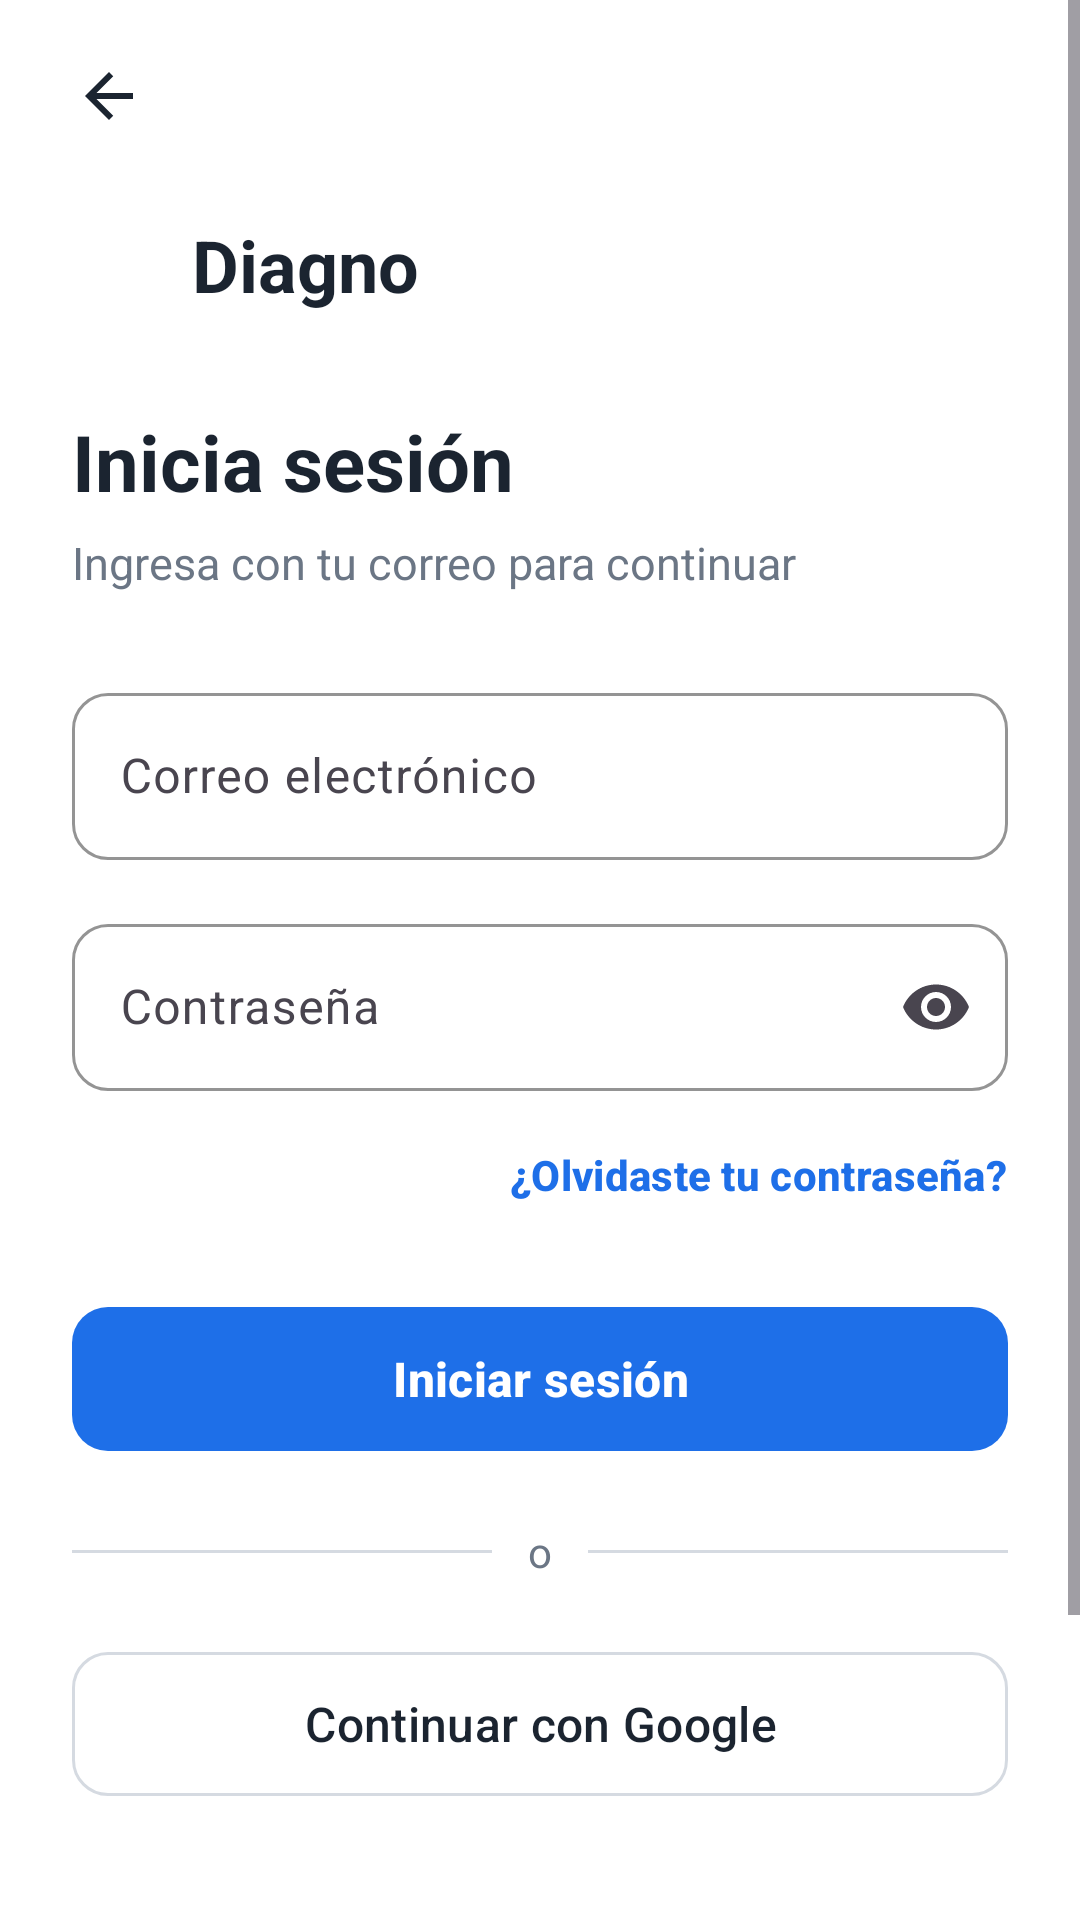

Point at icon controls on the screen. Image size 1080px x 1920px, points as (x,y).
Volver: (109,96)
